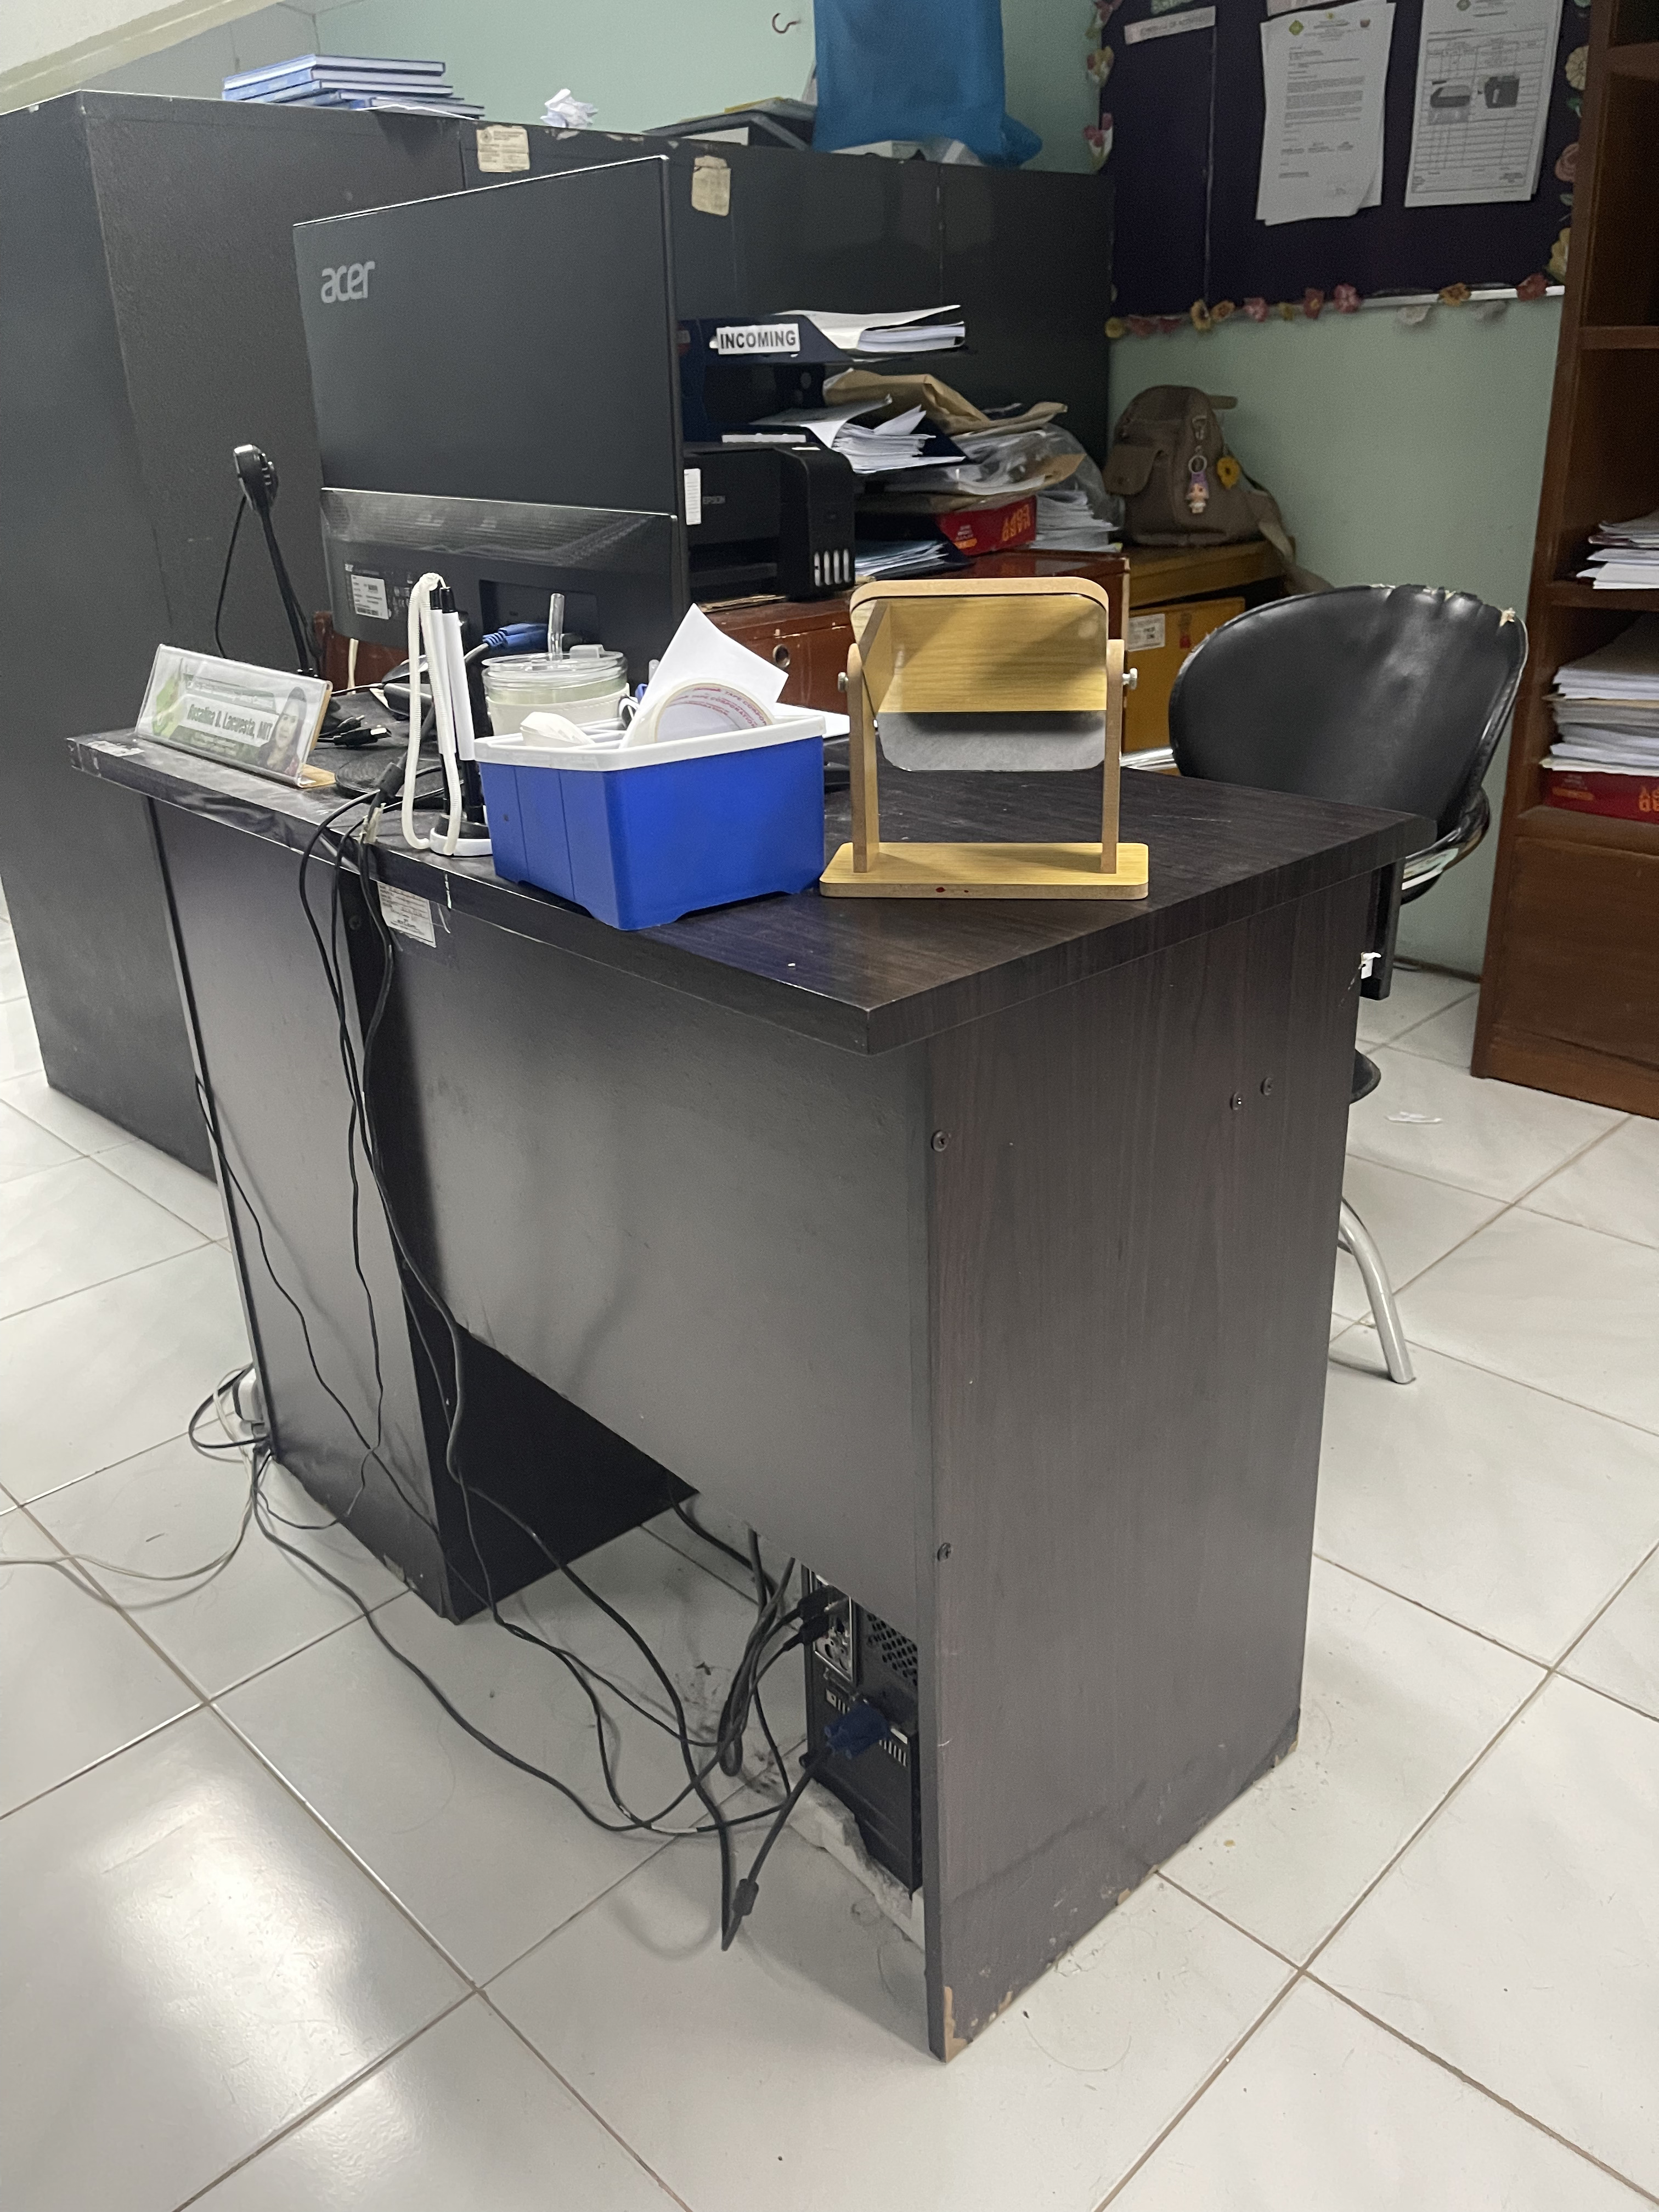table1: (54, 690, 1361, 2067)
